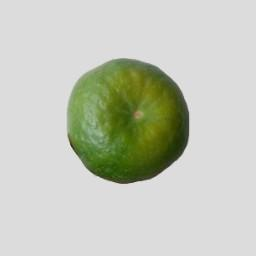Unripe: (68, 61, 187, 183)
